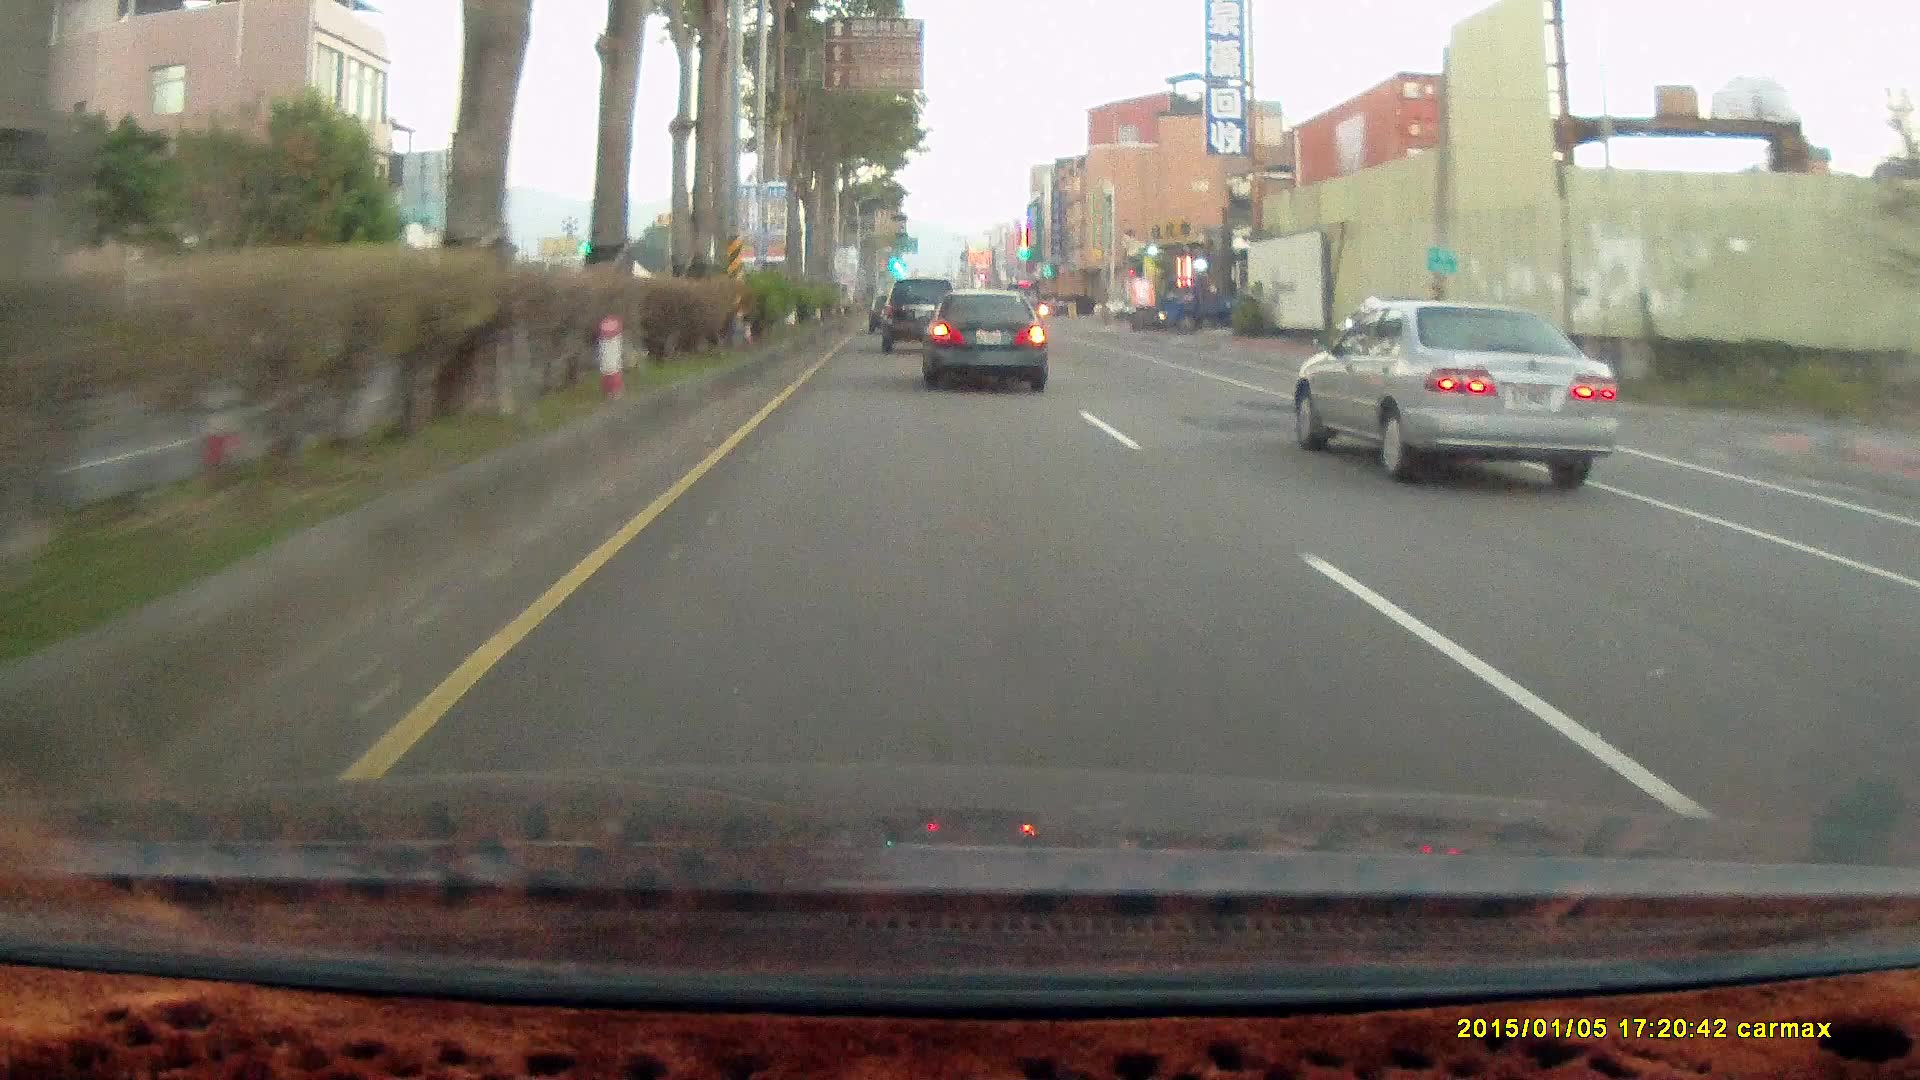vehicle: (1294, 295, 1621, 487), (1290, 295, 1626, 481), (916, 286, 1047, 390), (926, 290, 1055, 390), (1153, 270, 1249, 338), (1153, 272, 1249, 334), (880, 274, 960, 347), (880, 276, 960, 348), (1054, 293, 1095, 314)
